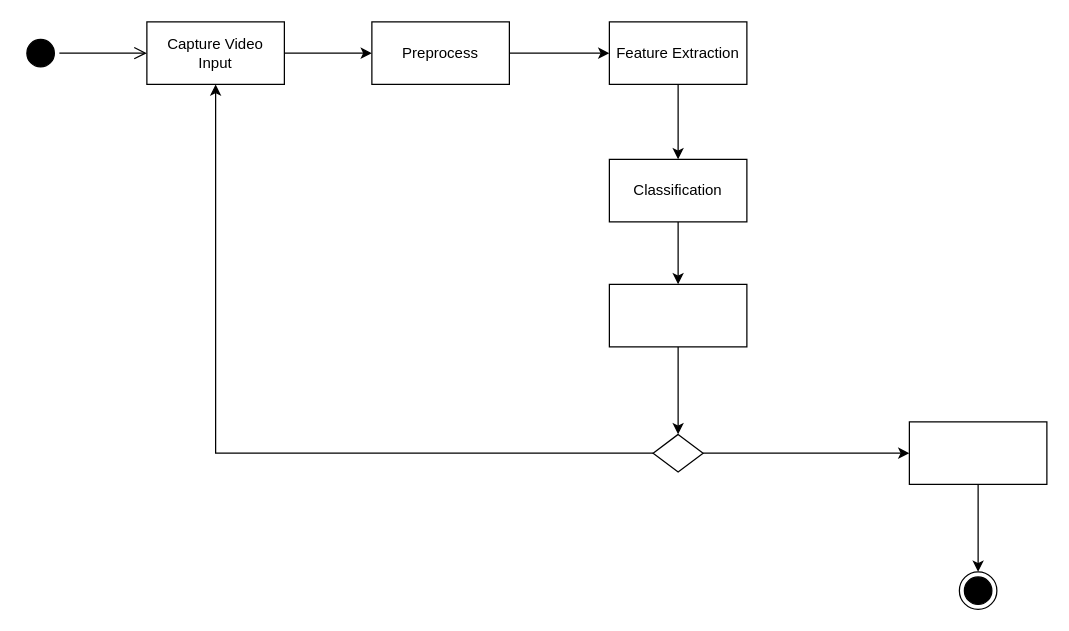
This 1069x631 diagram has some shape labels left out. Here are the shapes that lost their labels. From the top down, the centre of each, then its label:
At [677,315]: "Decision Making".
At [977,452]: "Alert System".
